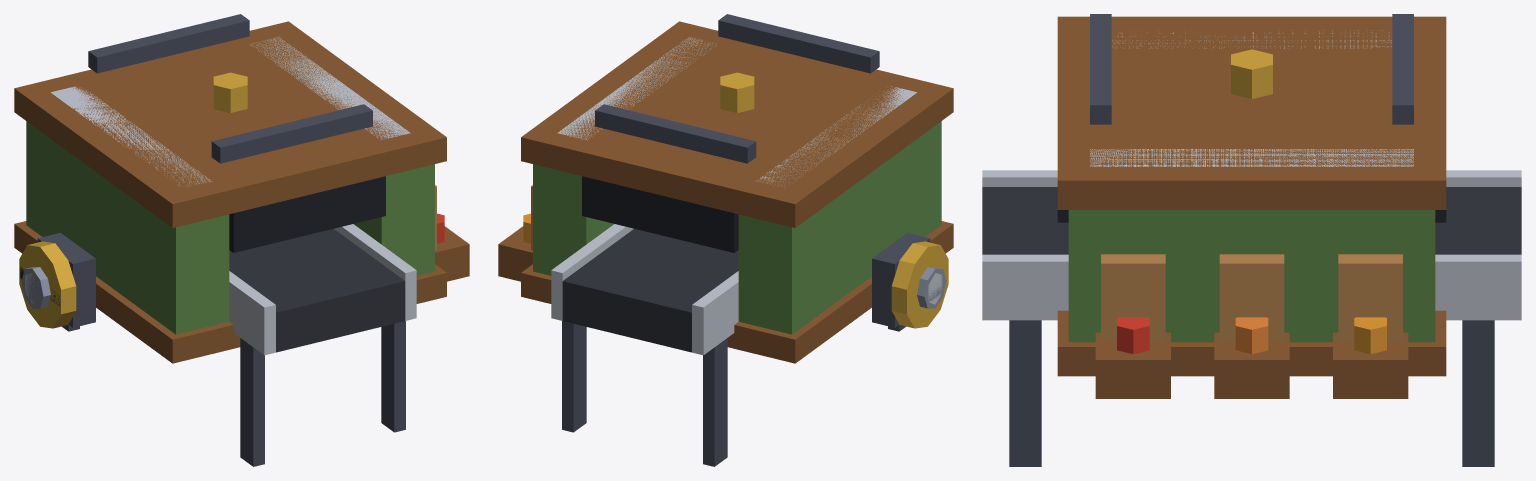
Rendered from grader-left.glb.
3 renders of one model, left to right at view 1: azimuth 30°, elevation 25°; view 2: azimuth 150°, elevation 25°; view 3: azimuth 270°, elevation 25°, orthographic. The views are drawn at different scales.
Visible parts, largest first — view 1: grader-left, spin-up, spin-x; view 2: grader-left, spin-up, spin-x; view 3: grader-left, spin-up.
Boxes of the visible parts, x1,y1,x2,y2 form: grader-left: [14, 21, 469, 466]; spin-up: [88, 14, 372, 163]; spin-x: [19, 241, 76, 328]; grader-left: [498, 21, 953, 466]; spin-up: [595, 14, 879, 163]; spin-x: [891, 241, 948, 328]; grader-left: [982, 16, 1521, 466]; spin-up: [1090, 14, 1413, 124].
Size of the model in its own units: 0.98 by 0.74 by 1.
3 materials, 3 textured.
